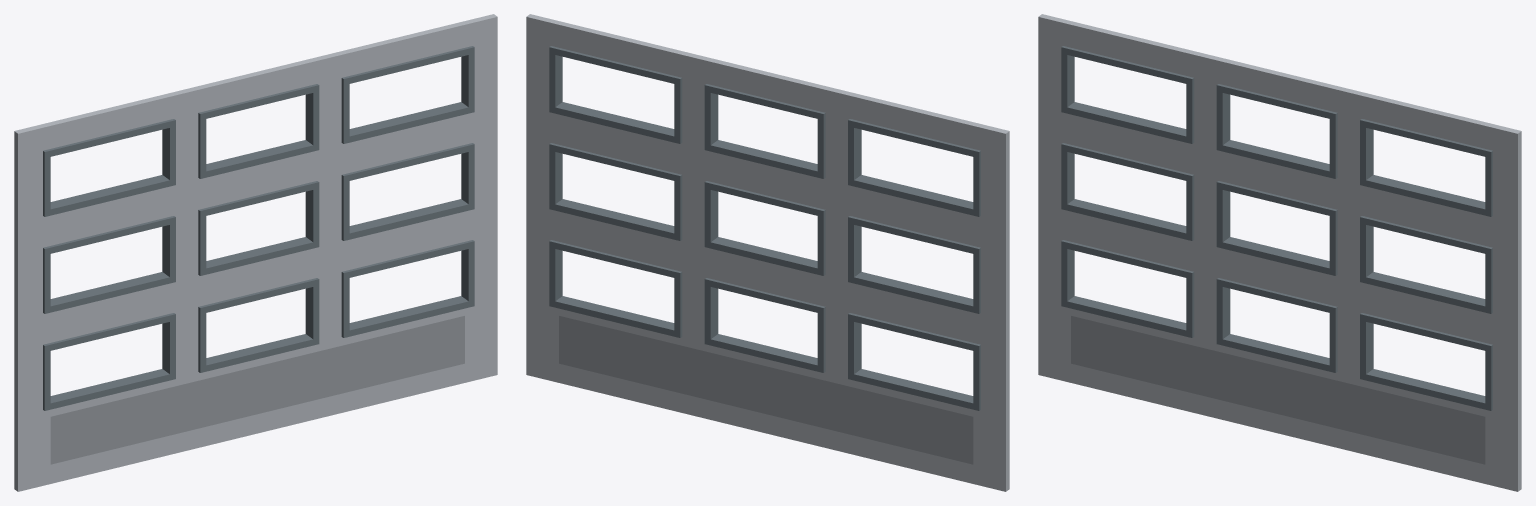
File: SM_Bld_RepairShop_Large_GarageDoor_01.fbx
3 renders of one model, left to right at view 1: azimuth 30°, elevation 25°; view 2: azimuth 150°, elevation 25°; view 3: azimuth 330°, elevation 25°, orthographic.
Parts seen in each view (by area): view 1: SM_Bld_RepairShop_Large_GarageDoor_01; view 2: SM_Bld_RepairShop_Large_GarageDoor_01; view 3: SM_Bld_RepairShop_Large_GarageDoor_01.
Boxes of the visible parts, x1,y1,x2,y2 form: SM_Bld_RepairShop_Large_GarageDoor_01: (14, 14, 497, 491); SM_Bld_RepairShop_Large_GarageDoor_01: (526, 14, 1009, 491); SM_Bld_RepairShop_Large_GarageDoor_01: (1038, 14, 1521, 491).
Size of the model in its own units: 490 by 350 by 13.25.
